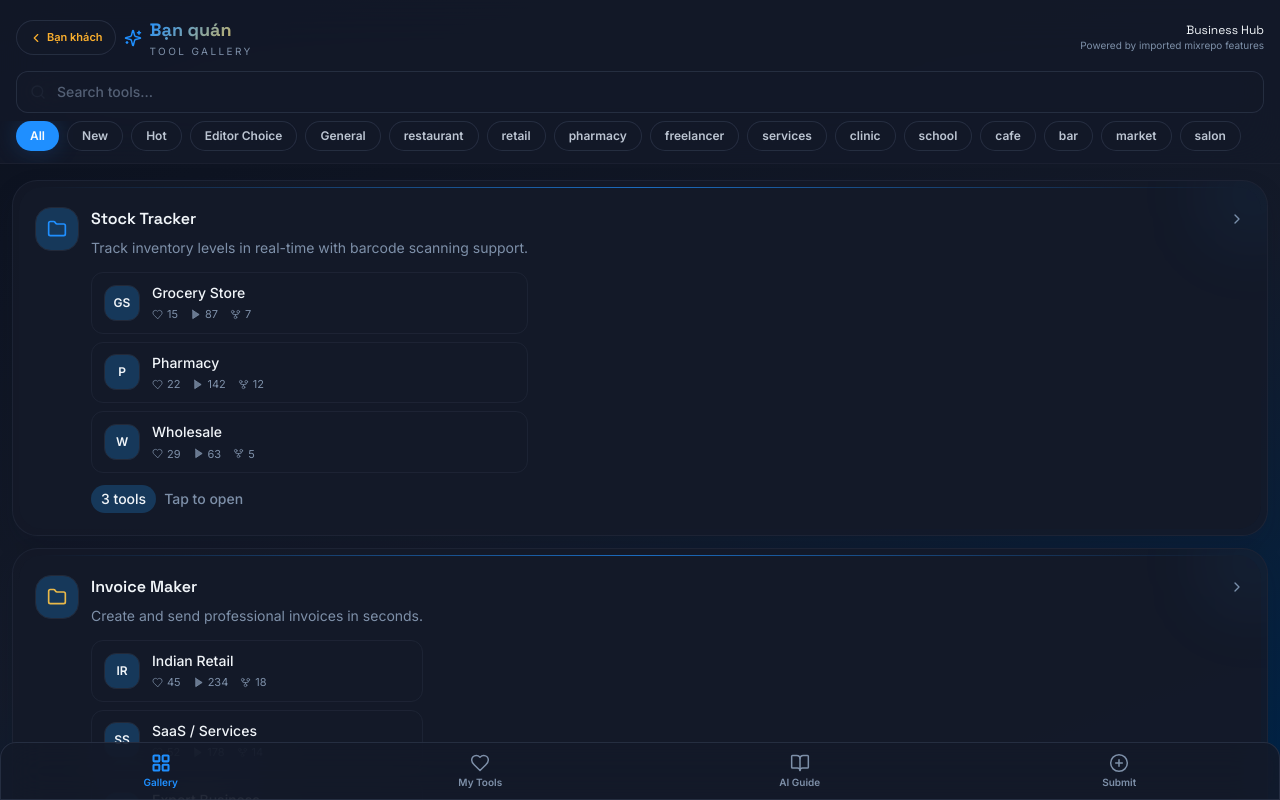
Test: Dual Hub landing flow › switches from business hub back to consumer hub directly
Expected: the field with placeholder "Search tools..." is shown, x1=16 y1=71 x2=1264 y2=113
Step 1. Click the button "Bạn khách" → (66, 38), box x1=16 y1=20 x2=116 y2=55
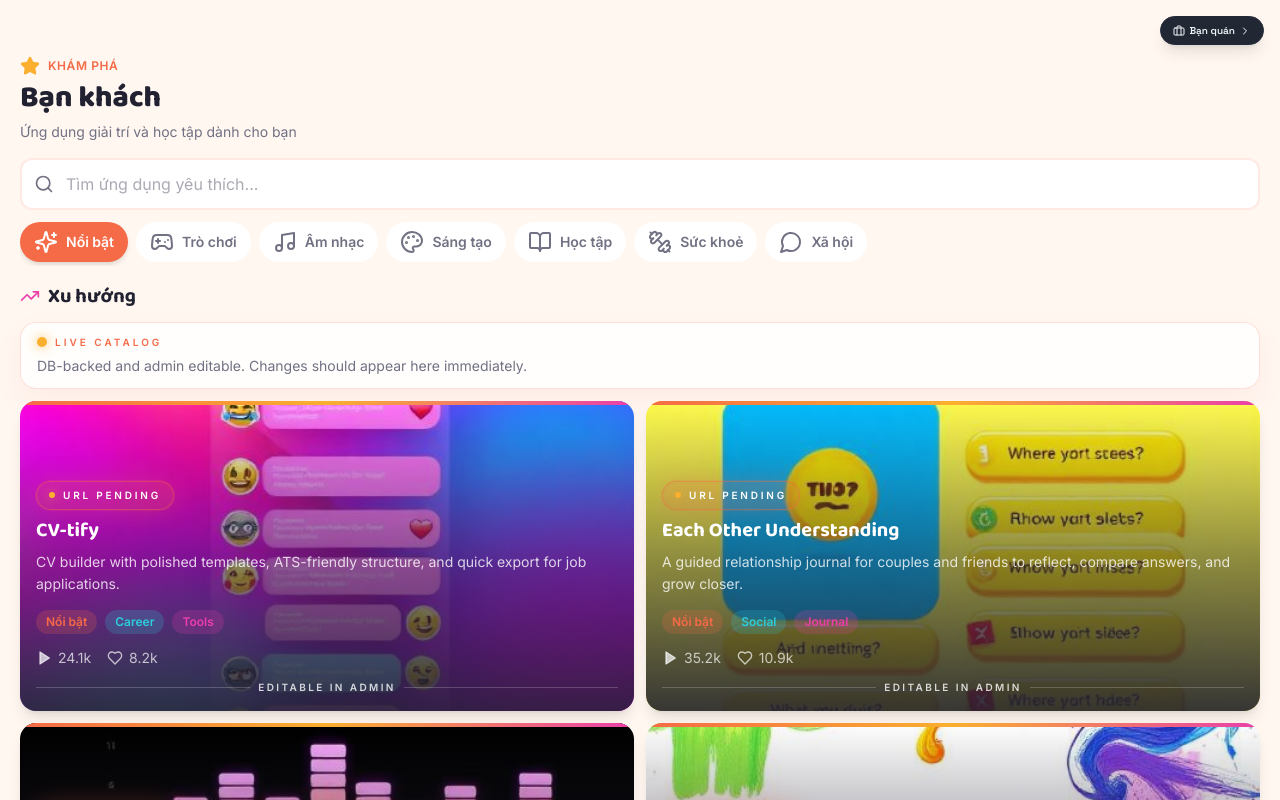
Expected: the button "Bạn quán" is shown, x1=1160 y1=16 x2=1264 y2=45
Expected: the field with placeholder "Tìm ứng dụng yêu thích..." is shown, x1=20 y1=158 x2=1260 y2=210
